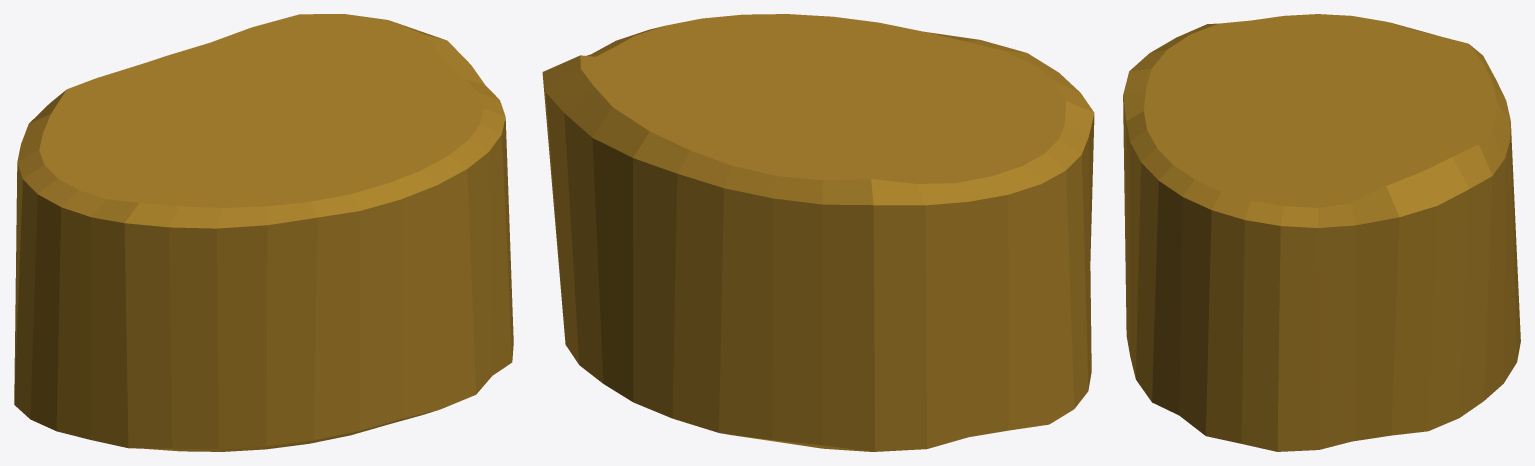
File: Kroket.fbx
The picture shows the model from 3 angles, left to right: view 1: azimuth 30°, elevation 25°; view 2: azimuth 150°, elevation 25°; view 3: azimuth 270°, elevation 25°; orthographic projection. The views are drawn at different scales.
Visible parts, largest first — view 1: Cylinder; view 2: Cylinder; view 3: Cylinder.
Part boxes in pixels (<box>): Cylinder: <box>14,14,513,451</box>; Cylinder: <box>542,14,1094,451</box>; Cylinder: <box>1123,14,1520,451</box>.
Bounding box in the file's own units: 41.14 × 23.43 × 31.5.
